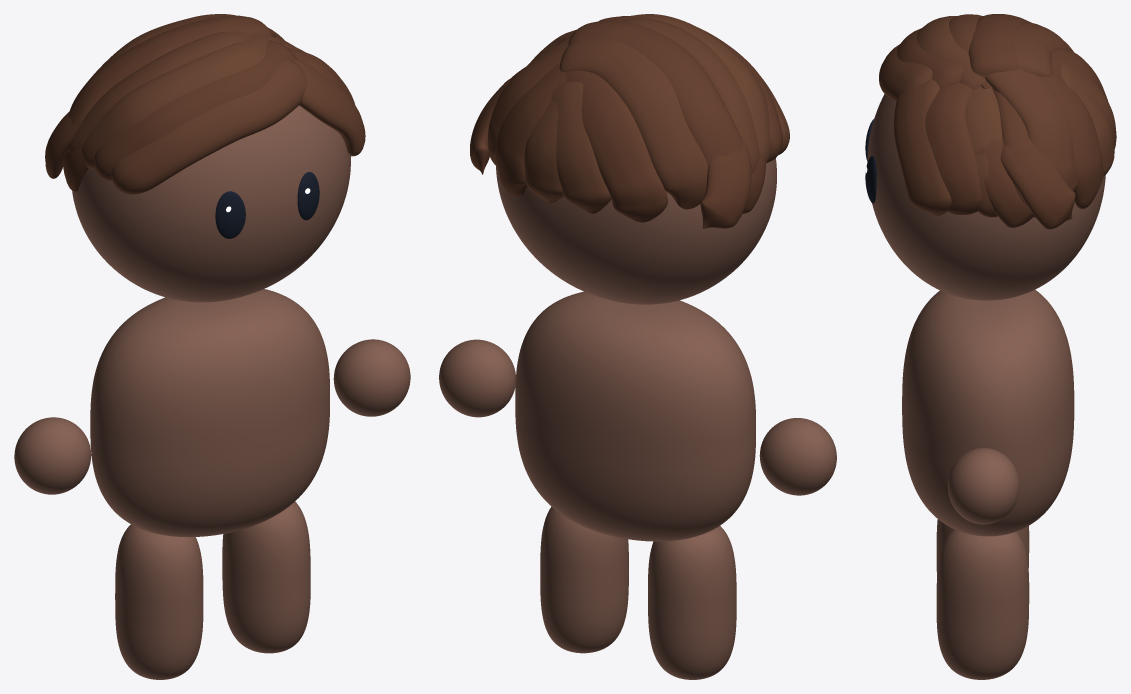
File: Masculine-skin3.glb
3 views of the same model, side by side, from view 1: azimuth 30°, elevation 25°; view 2: azimuth 150°, elevation 25°; view 3: azimuth 270°, elevation 25° (orthographic). The views are drawn at different scales.
Parts seen in each view (by area): view 1: Skin / compact torso, Skin / soft oval head, Skin / leg -1, Skin / leg 1, Hair / Main sweep 0, Hair / Main sweep 2, Hair / Main sweep 1, Skin / hand -1, Skin / hand 1, Hair / Crown sweep, Hair / Main sweep 3, Hair / Short side 0 (+6 smaller); view 2: Skin / compact torso, Skin / soft oval head, Skin / leg -1, Skin / leg 1, Hair / Back sweep 0, Hair / Back sweep 1, Hair / Crown sweep, Skin / hand 1, Skin / hand -1, Hair / Back sweep 2, Hair / Back sweep 4, Hair / Main sweep 3 (+7 smaller); view 3: Skin / compact torso, Skin / soft oval head, Skin / leg 1, Hair / Short side 1, Hair / Short side 0, Hair / Back sweep 3, Skin / hand 1, Hair / Temple 1 1, Hair / Back sweep 4, Hair / Crown sweep, Hair / Short side 2, Hair / Temple 1 0 (+11 smaller).
Part boxes in pixels (x1,y1,x2,y2): Skin / compact torso: [90, 289, 329, 537]; Skin / soft oval head: [72, 105, 350, 302]; Skin / leg -1: [115, 524, 203, 679]; Skin / leg 1: [222, 501, 310, 653]; Hair / Main sweep 0: [111, 58, 307, 194]; Hair / Main sweep 2: [82, 35, 282, 169]; Hair / Main sweep 1: [94, 40, 296, 180]; Skin / hand -1: [14, 417, 91, 494]; Skin / hand 1: [333, 339, 410, 416]; Hair / Crown sweep: [65, 15, 272, 154]; Hair / Main sweep 3: [67, 31, 253, 152]; Hair / Short side 0: [293, 59, 365, 156]; Skin / compact torso: [515, 291, 755, 541]; Skin / soft oval head: [496, 158, 776, 304]; Skin / leg -1: [648, 526, 736, 679]; Skin / leg 1: [540, 506, 628, 653]; Hair / Back sweep 0: [559, 38, 707, 209]; Hair / Back sweep 1: [566, 70, 668, 222]; Hair / Crown sweep: [568, 20, 742, 165]; Skin / hand 1: [439, 339, 515, 417]; Skin / hand -1: [759, 418, 836, 495]; Hair / Back sweep 2: [551, 81, 611, 213]; Hair / Back sweep 4: [495, 62, 566, 197]; Hair / Main sweep 3: [620, 18, 759, 174]; Skin / compact torso: [902, 289, 1074, 536]; Skin / soft oval head: [867, 94, 1105, 300]; Skin / leg 1: [936, 529, 1029, 679]; Hair / Short side 1: [925, 82, 981, 214]; Hair / Short side 0: [893, 79, 951, 215]; Hair / Back sweep 3: [985, 69, 1077, 191]; Skin / hand 1: [947, 448, 1019, 524]; Hair / Temple 1 1: [1000, 138, 1075, 229]; Hair / Back sweep 4: [1039, 73, 1103, 208]; Hair / Crown sweep: [968, 14, 1031, 88]; Hair / Short side 2: [967, 87, 1002, 217]; Hair / Temple 1 0: [975, 139, 1033, 227].
Size of the model in its own units: 1.49 by 2.32 by 0.8517.
